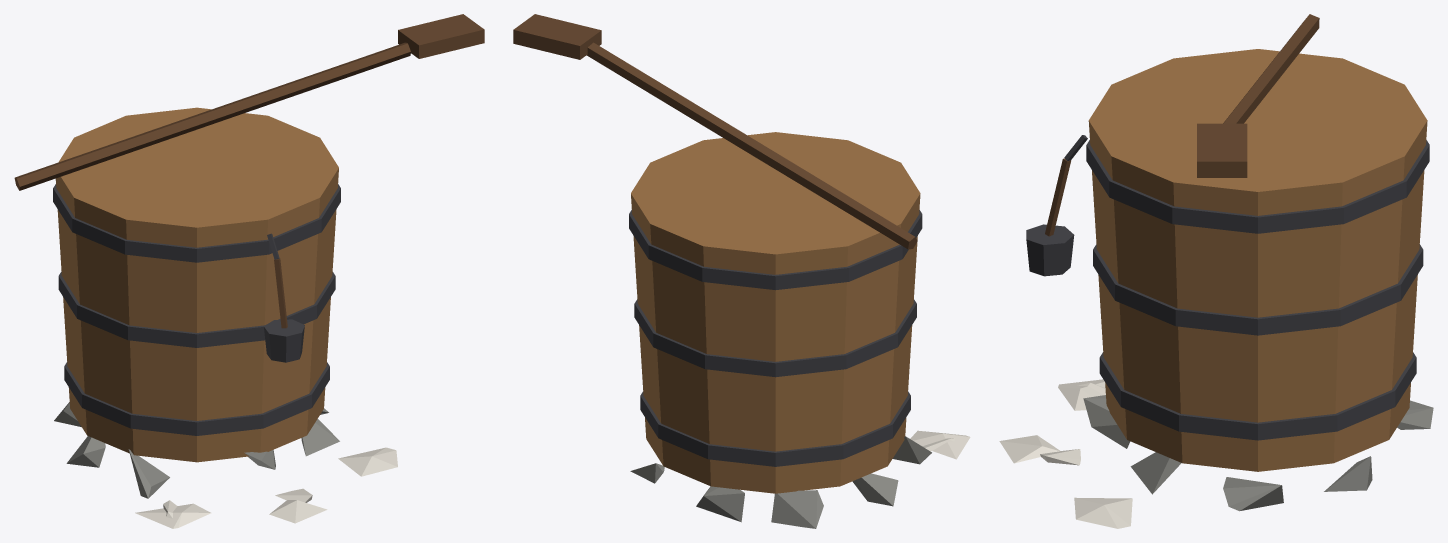
Rendered from LyeVat.fbx.
3 views of the same model, side by side, from view 1: azimuth 30°, elevation 25°; view 2: azimuth 150°, elevation 25°; view 3: azimuth 270°, elevation 25° (orthographic). The views are drawn at different scales.
Visible parts, largest first — view 1: LyeVat; view 2: LyeVat; view 3: LyeVat.
Boxes of the visible parts, x1,y1,x2,y2 form: LyeVat: [14, 14, 484, 528]; LyeVat: [513, 14, 970, 528]; LyeVat: [999, 14, 1433, 528].
Size of the model in its own units: 1.61 by 1.34 by 1.2.
